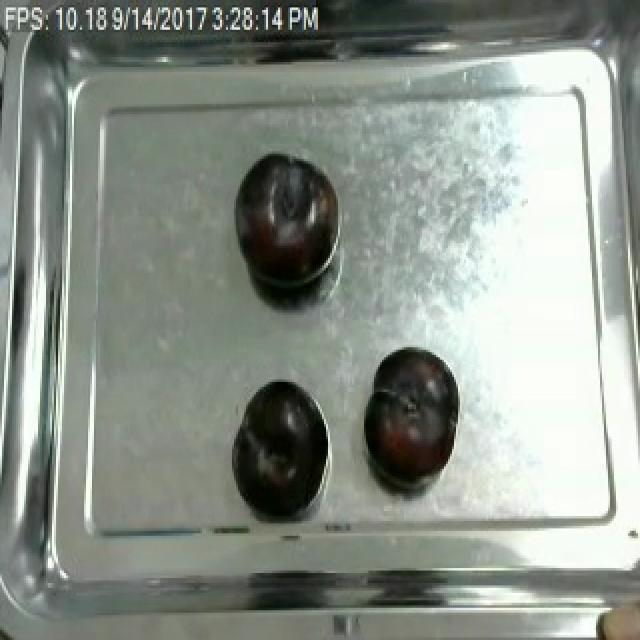Fruit: (230, 152, 340, 296), (228, 372, 324, 519), (360, 345, 460, 484), (590, 585, 640, 640)
